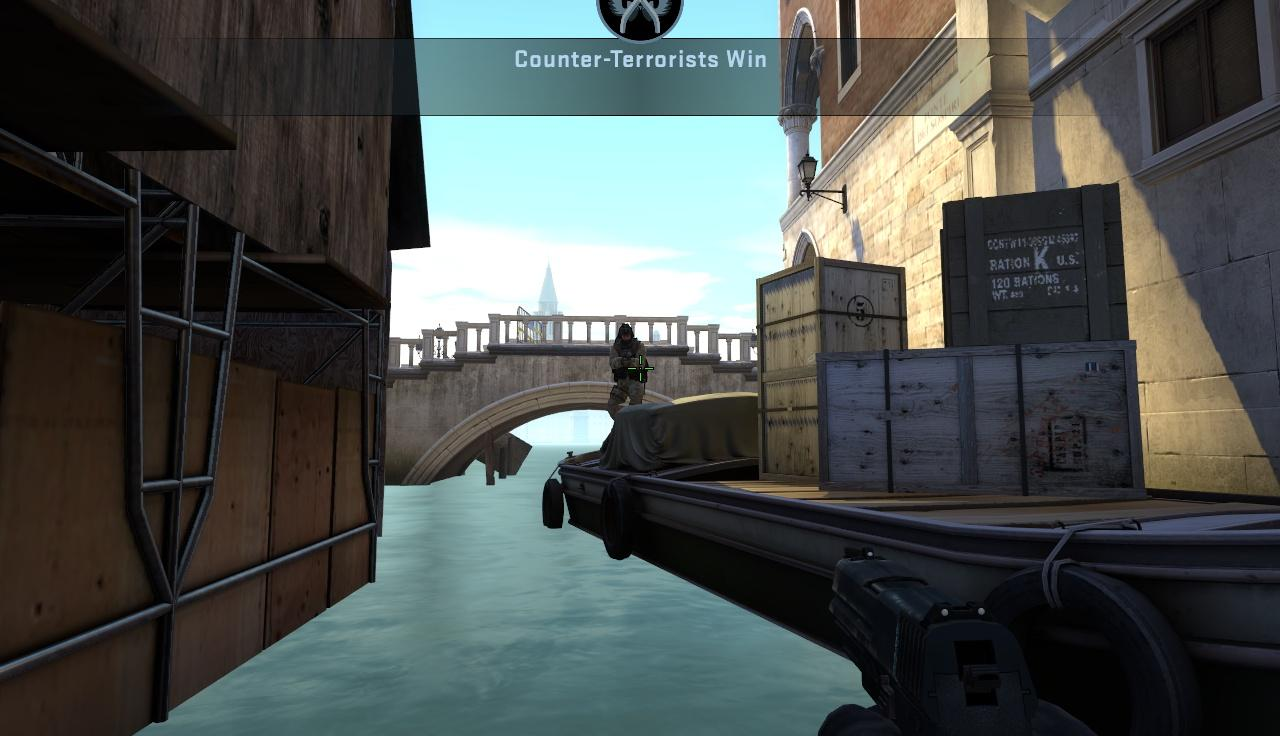ct: (610, 322, 644, 407)
cthead: (619, 324, 633, 344)
pistol: (827, 540, 1074, 736)
